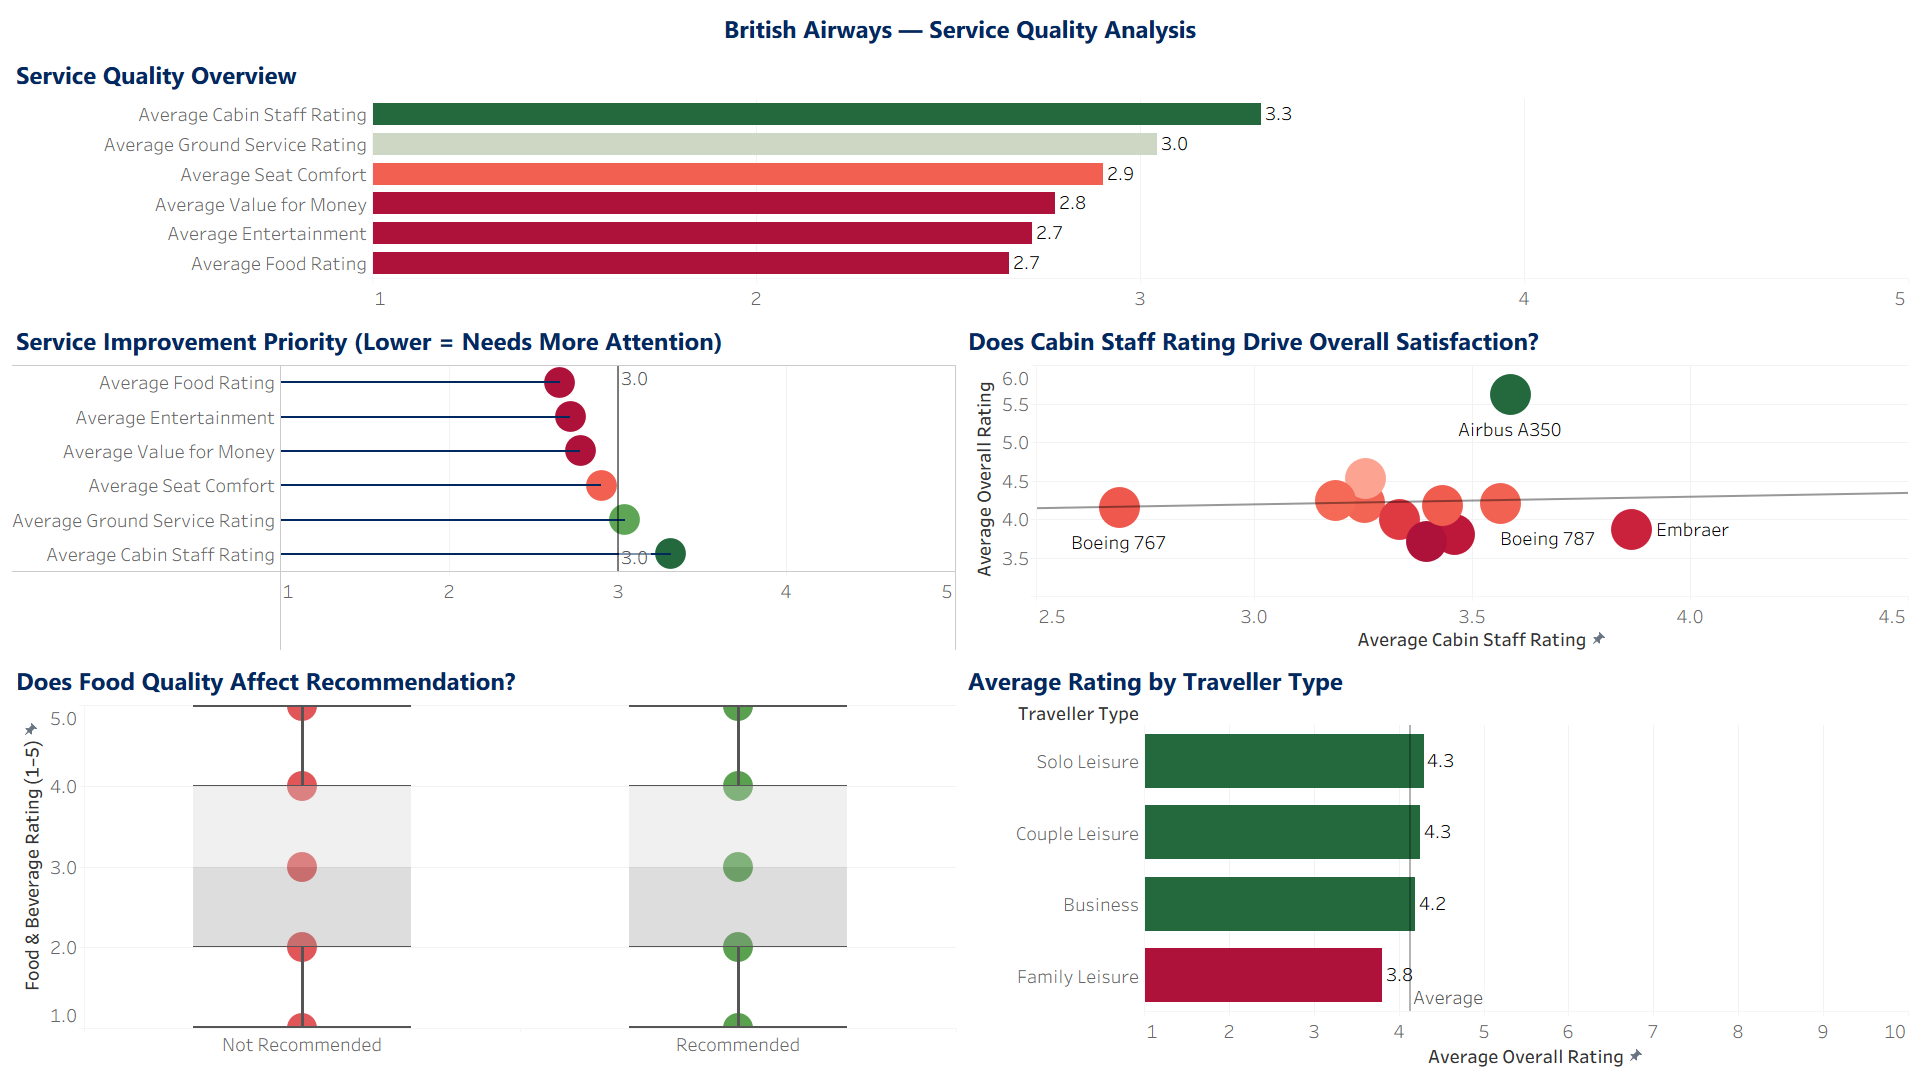

The page's visual inventory and layout, read from the dashboard file:
{"tool":"tableau","page":{"name":"Dashboard 2 - Service Quality","canvas":[1920,1080],"ordinal":1},"visuals":[{"type":"text","box":[8,8,1904,40.3]},{"type":"worksheet","title":"Service Quality Comparison","mark":"Automatic","box":[8,48.3,1904,265.5]},{"type":"worksheet","title":"Improvement Priority Ranking","mark":"Circle","box":[8,313.9,952,340.6]},{"type":"worksheet","title":"Cabin Staff vs Overall Rating","mark":"Circle","rows":["Calculation_25606821813547008"],"cols":["Calculation_25606821814202371"],"box":[960,313.9,952,340.6]},{"type":"worksheet","title":"Food Quality vs Recommendation","mark":"Circle","rows":["food_beverages"],"cols":["recommendation"],"box":[8,654.5,952,417.5]},{"type":"worksheet","title":"Traveller Type - Average Rating","mark":"Automatic","rows":["traveller_type"],"cols":["Calculation_25606821813547008"],"box":[960,654.5,952,417.5]}]}

Visuals, with their boxes in screenshot pixels (x1, y1, x2, y2), scaled from the page's 1920x1080 canvas onto the 1920x1080 screenshot:
text: [8,8,1912,48]
"Service Quality Comparison" worksheet: [8,48,1912,314]
"Improvement Priority Ranking" worksheet (Circle marks): [8,314,960,654]
"Cabin Staff vs Overall Rating" worksheet (Circle marks): [960,314,1912,654]
"Food Quality vs Recommendation" worksheet (Circle marks): [8,654,960,1072]
"Traveller Type - Average Rating" worksheet: [960,654,1912,1072]
